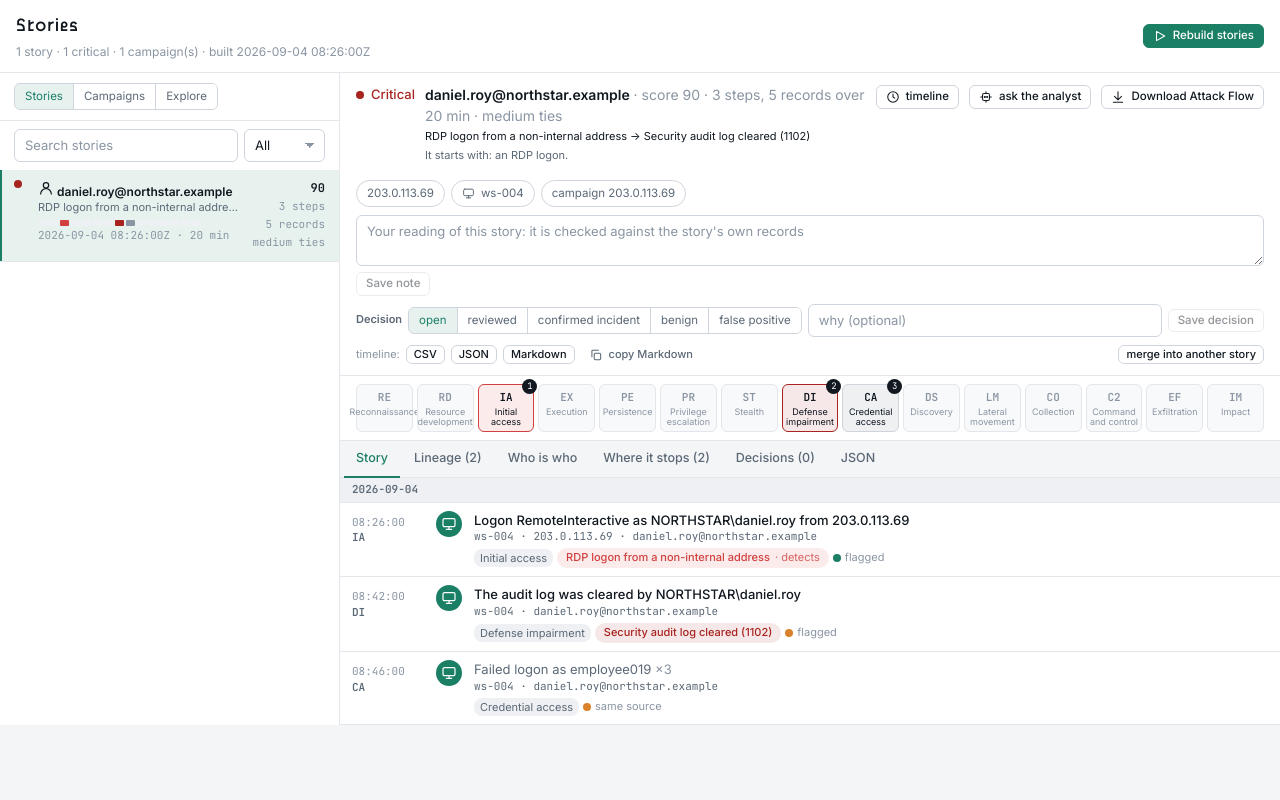
Test: the Stories page › lists the campaigns with the other accounts their sources reached, and explores the graph with its link reviews
Check: the button with aria-label "Story daniel.roy@northstar.example" is shown, box [0,170,339,262]
# a step shows the links its records support once the graph is built
Step 1. Click the text "Logon RemoteInteractive as NORTHSTAR\\daniel.roy from 203.0.113.69" → coordinates (692, 520), box [474,512,909,528]
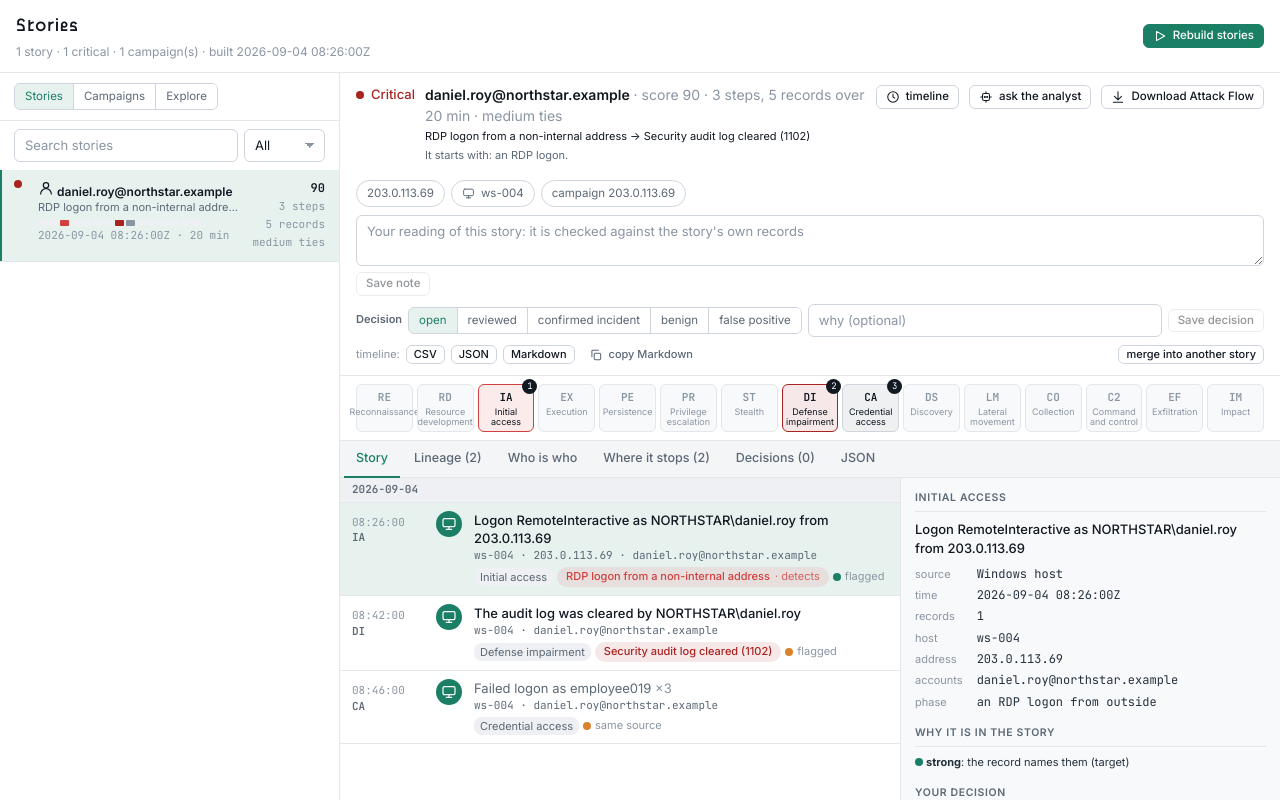
Step 2. Click the button "Campaigns" → coordinates (114, 97), box [73,84,155,109]
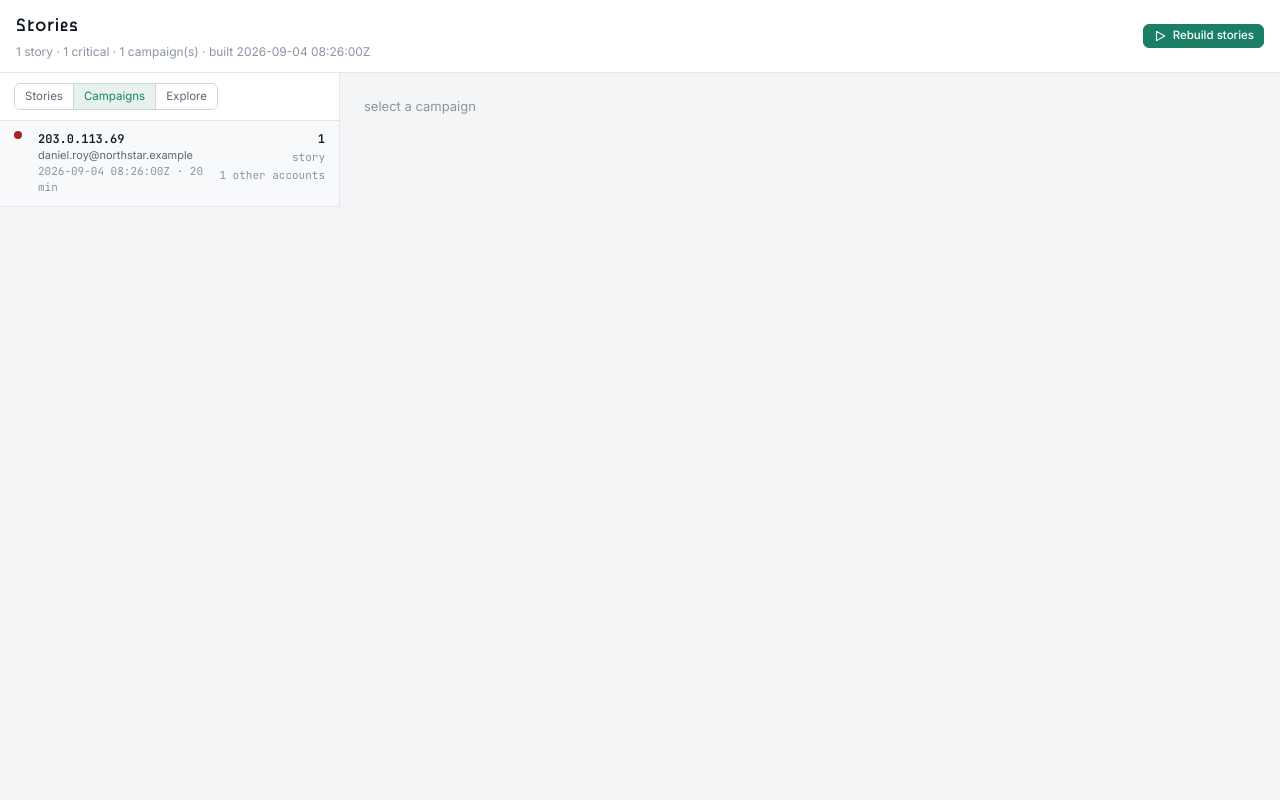
Step 3. Click the button with aria-label "Campaign 203.0.113.69" → coordinates (170, 164), box [0,121,339,207]
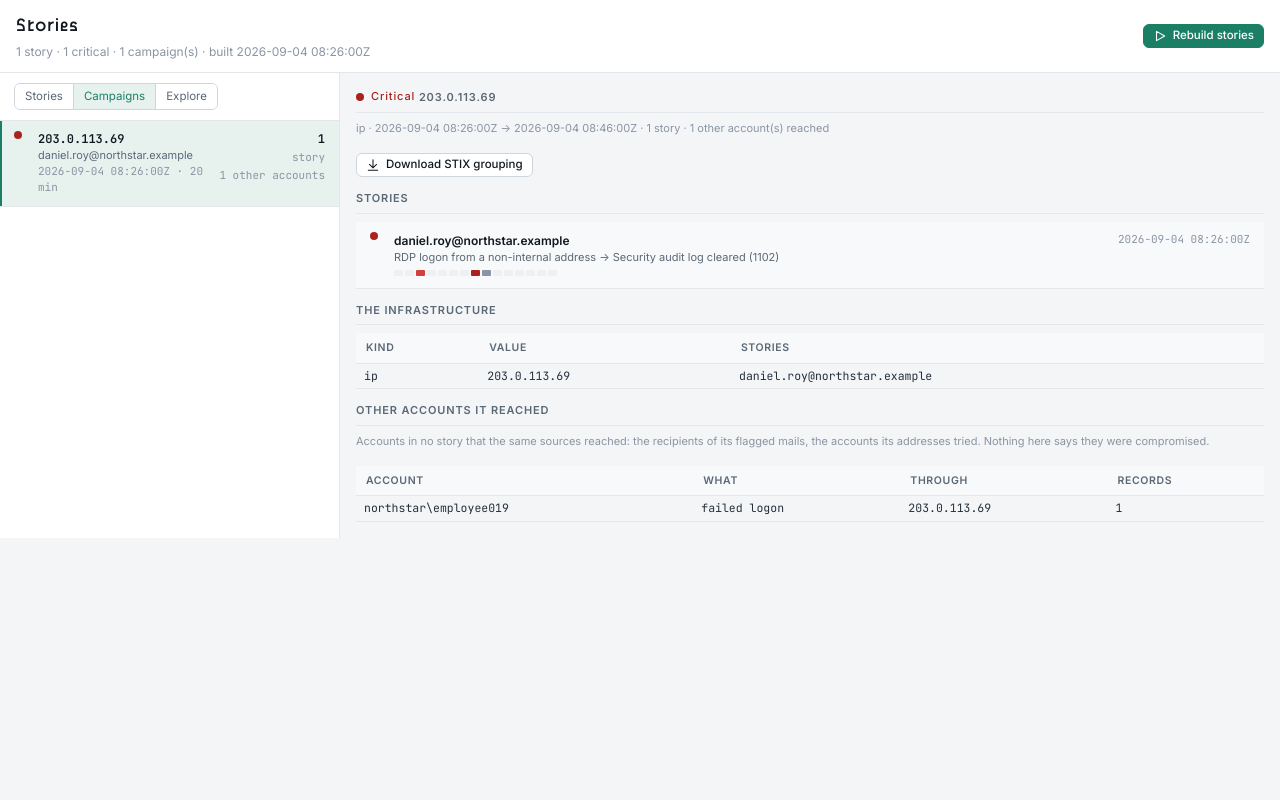
Check: the text "northstar\\employee019" is shown, box [356,496,693,522]
Check: the text "failed logon" is shown, box [693,496,900,522]
Step 4. Click the button "Explore" → coordinates (186, 97), box [155,84,217,109]
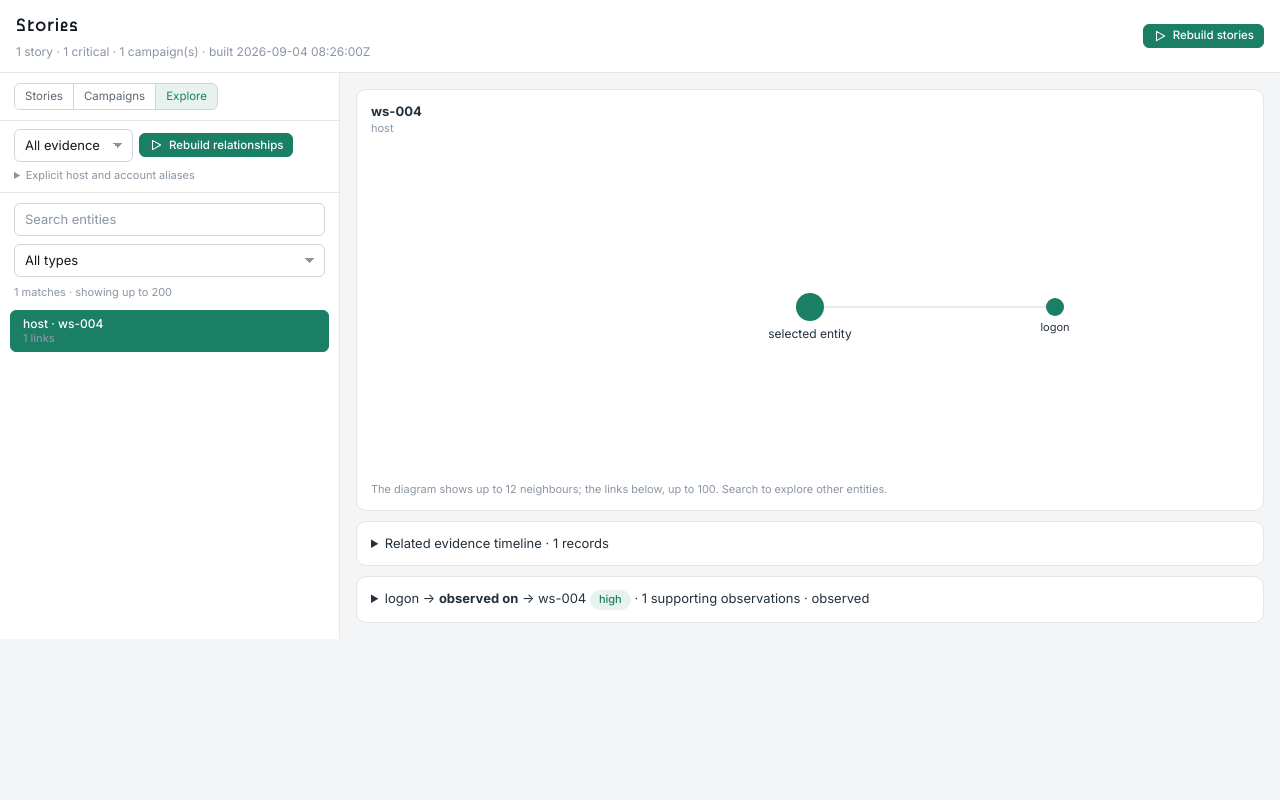
Check: the picture named "Connections around the selected entity" is shown, box [371,137,1249,477]
Check: the dropdown named "Entity type" is shown, box [14,244,325,276]
